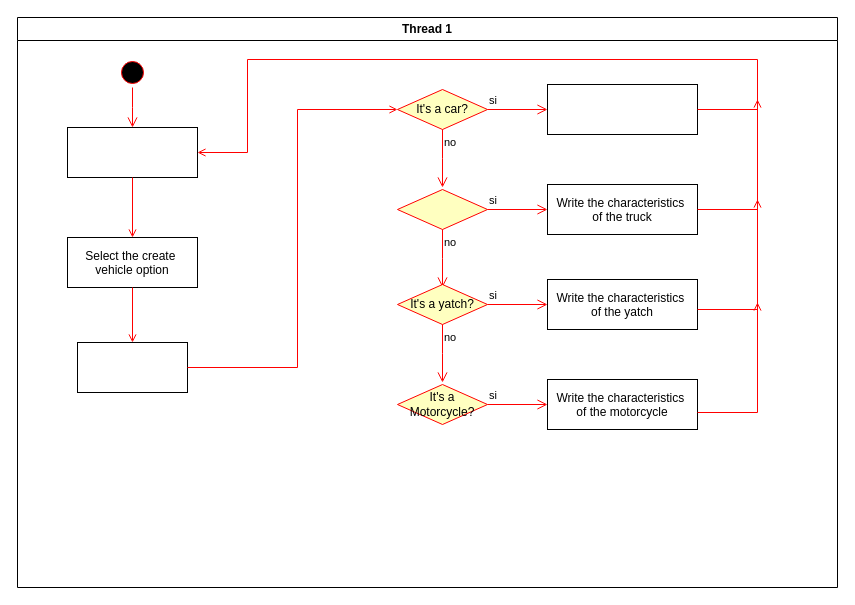
The diagram is 855 pixels wide and 605 high, and some of its shapes have lost their labels. Each missing label, with the centre of its shape:
"It's a truck?" goes at [442,209].
"Select if you are a customer or seller" goes at [132,152].
"Select what type of vehicle it is" goes at [132,367].
"Write the characteristics of the car" goes at [622,109].
